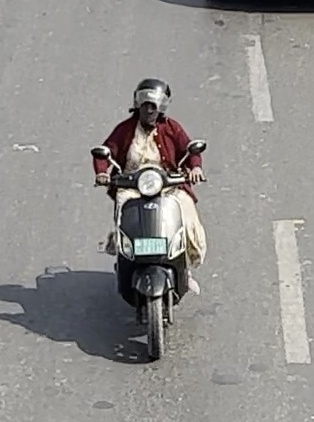BikeWithRider: (91, 77, 209, 363)
Helmet: (129, 78, 173, 127)
